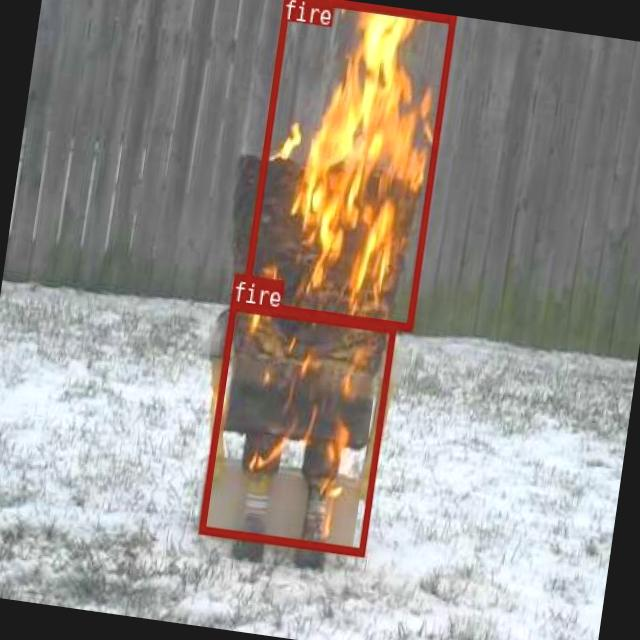fire: (239, 0, 453, 328), (197, 302, 396, 556)
